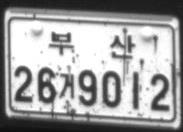0: (101, 69, 121, 108)
1: (126, 70, 145, 110)
2: (149, 72, 170, 112), (13, 64, 33, 102)
6: (36, 65, 57, 104)
9: (77, 68, 97, 106)
거: (59, 71, 75, 100)
부산_D: (48, 30, 136, 59)
